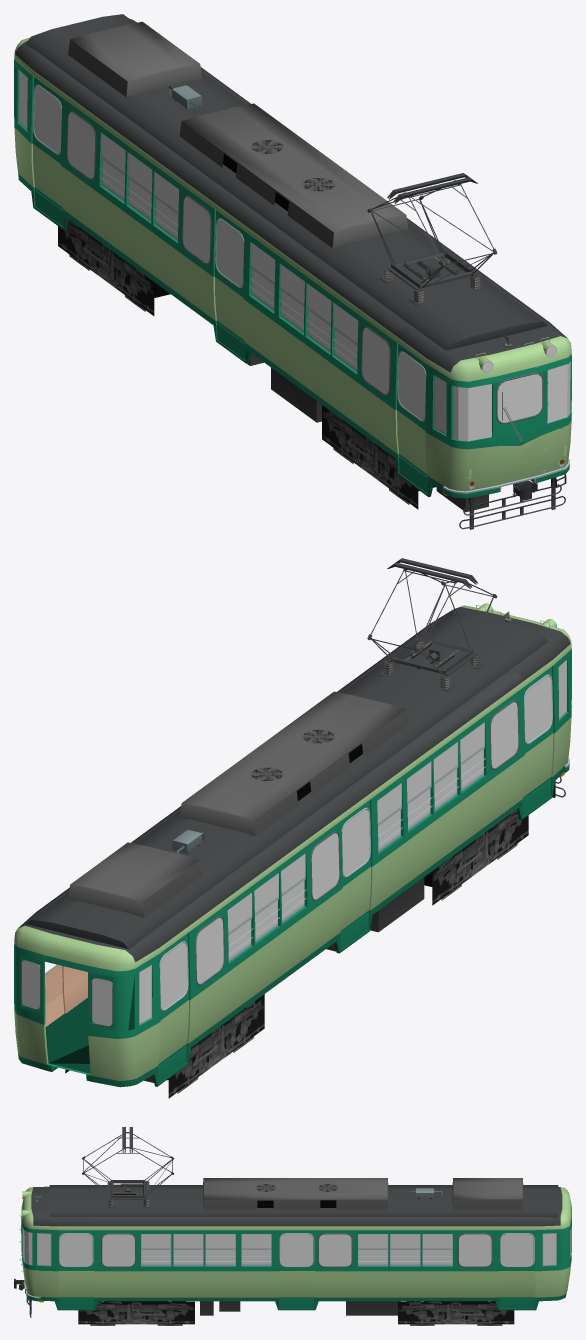
Rendered from CHAR_SEL_80.glb.
The picture shows the model from 3 angles, top to bottom: view 1: azimuth 30°, elevation 25°; view 2: azimuth 150°, elevation 25°; view 3: azimuth 270°, elevation 25°; orthographic projection. The views are drawn at different scales.
Parts seen in each view (by area): view 1: obj1; view 2: obj1; view 3: obj1.
Part boxes in pixels (x1,y1,x2,y2): obj1: [14, 14, 571, 529]; obj1: [14, 558, 571, 1098]; obj1: [14, 1127, 571, 1325].
Bounding box in the file's own units: 5.85 × 12.24 × 35.8.
Materials: 16 (11 with a texture image).
